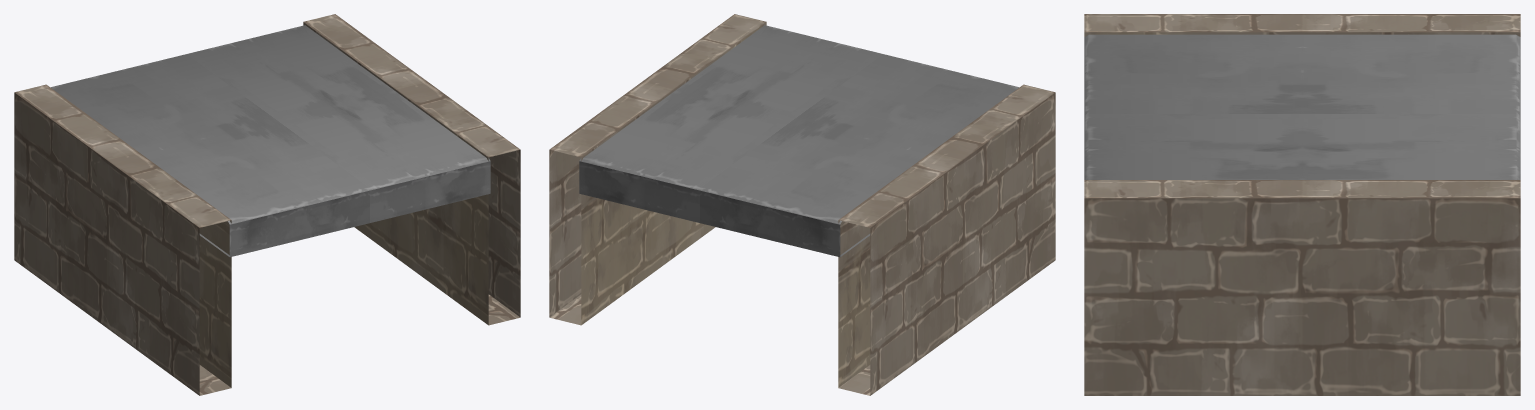
File: Stairs_Exterior_Platform.gltf
The picture shows the model from 3 angles, left to right: view 1: azimuth 30°, elevation 25°; view 2: azimuth 150°, elevation 25°; view 3: azimuth 270°, elevation 25°; orthographic projection. The views are drawn at different scales.
Parts seen in each view (by area): view 1: Stairs_Exterior_Platform; view 2: Stairs_Exterior_Platform; view 3: Stairs_Exterior_Platform.
Part boxes in pixels (x1=…): Stairs_Exterior_Platform: x1=14, y1=14, x2=520, y2=395; Stairs_Exterior_Platform: x1=549, y1=14, x2=1055, y2=395; Stairs_Exterior_Platform: x1=1084, y1=14, x2=1520, y2=395.
Size of the model in its own units: 2 by 0.9999 by 2.
2 materials, 2 textured.
